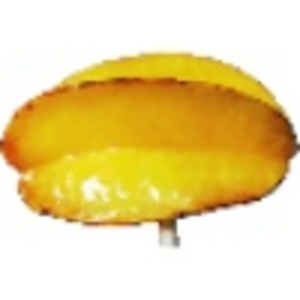carambola: (1, 49, 300, 243)
